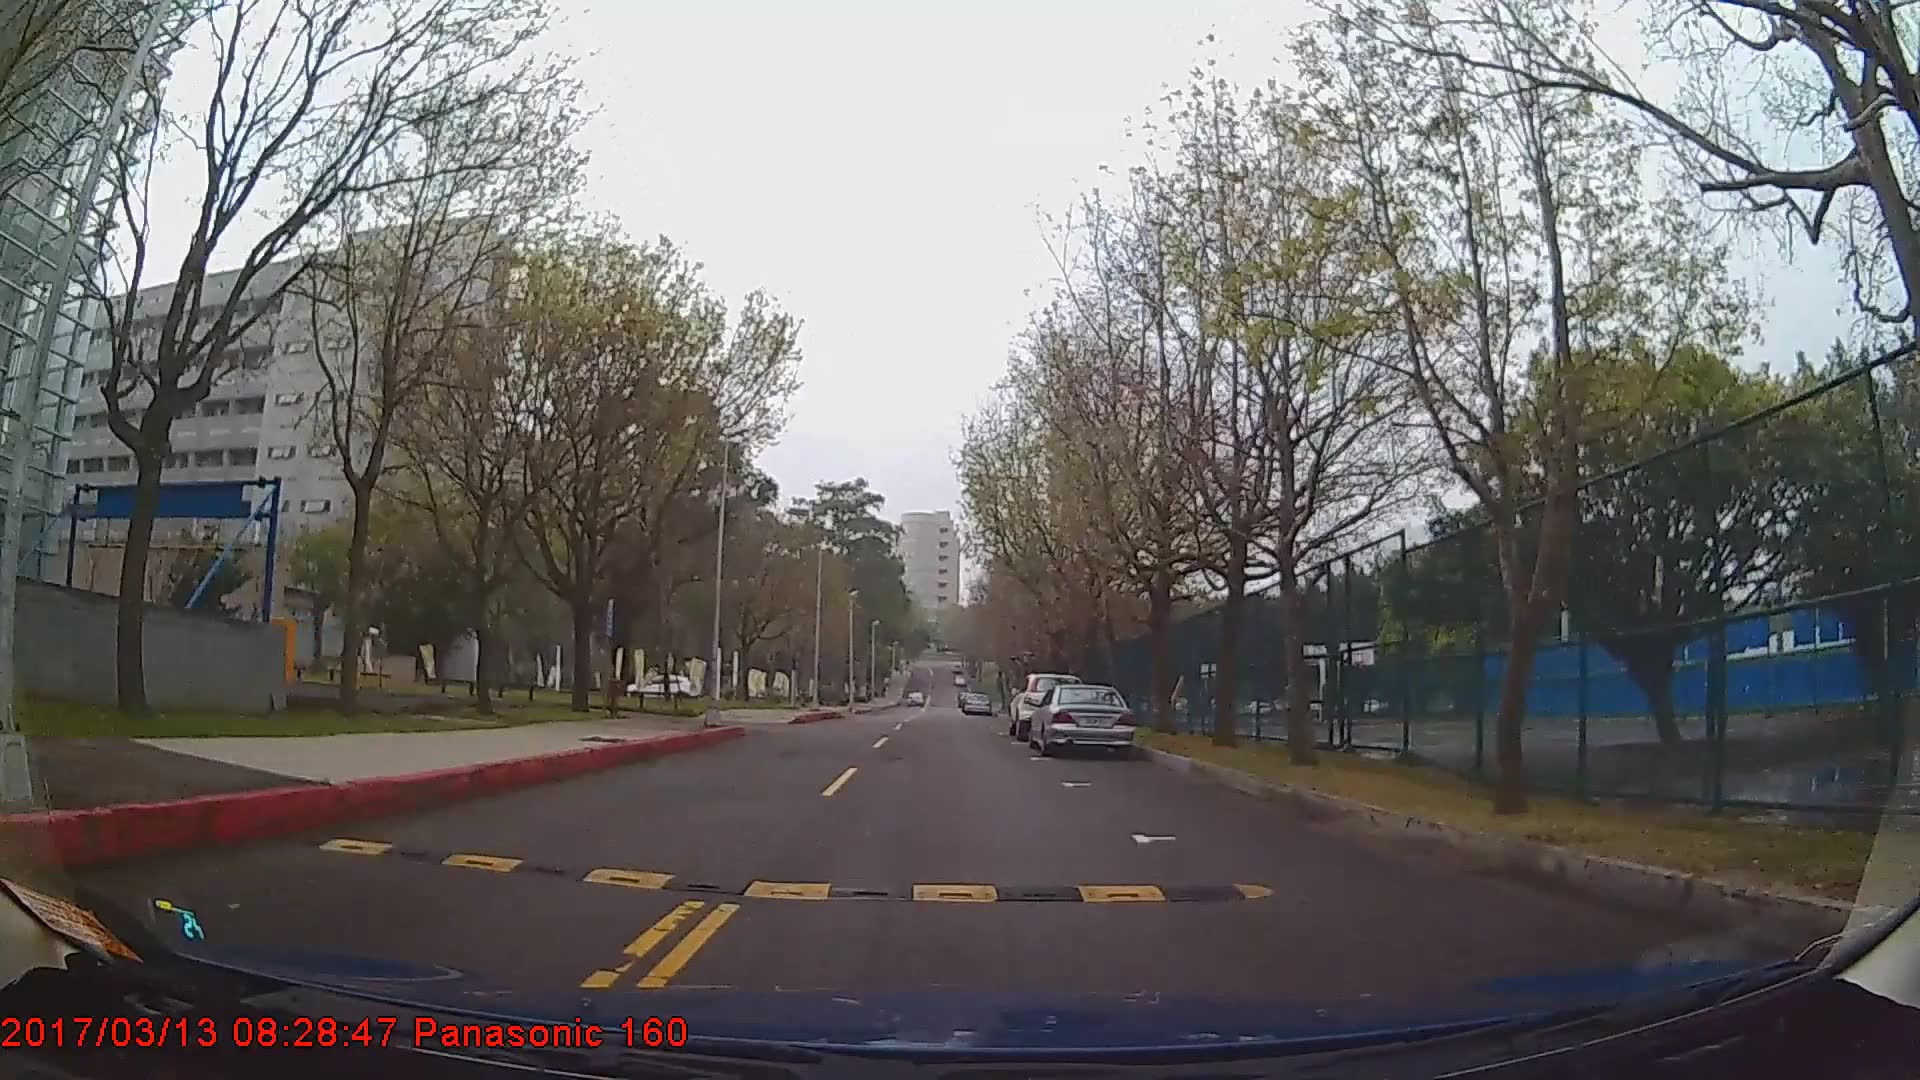vehicle: (1029, 680, 1137, 752), (1006, 673, 1083, 741), (959, 686, 992, 709)
